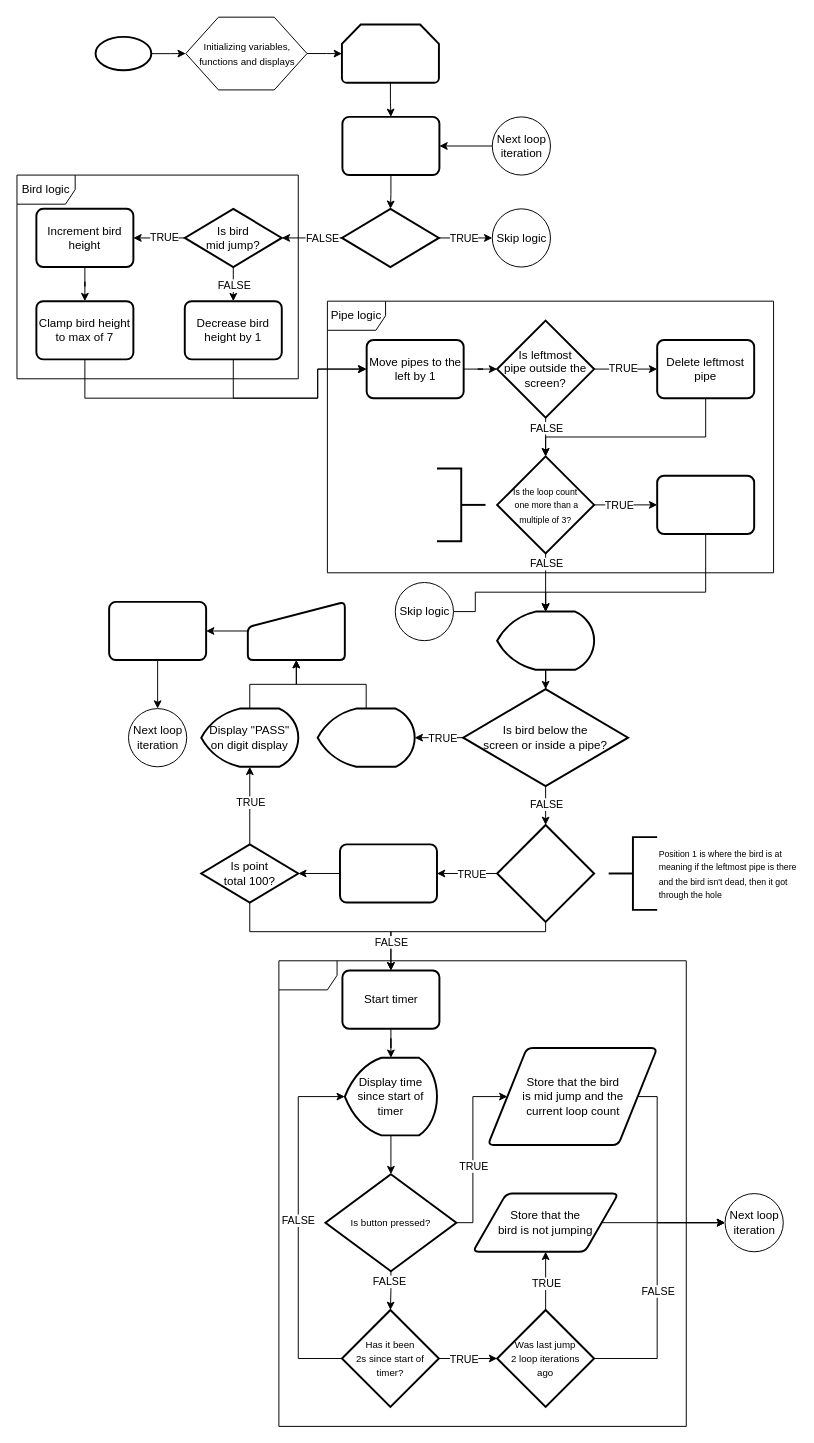
The diagram is 814 pixels wide and 1443 high, and some of its shapes have lost their labels. The box of each missing label's shape, as (x1, y1, x2, y2) in pixels:
Add a new pipe with a random height: (656, 474, 755, 534)
Await button press: (246, 600, 345, 661)
Display L on 3nd digit of digit display: (316, 707, 415, 767)
First loop?: (340, 207, 439, 268)
Increment loop count: (341, 115, 440, 176)
Increment point total: (339, 843, 437, 903)
Is leftmost pipe at position 1?: (496, 824, 595, 922)
Jump logic: (278, 960, 686, 1426)
loop_count%3 == 1: (436, 467, 486, 542)
Render image on matrix display: (496, 610, 595, 670)
Reset all variables to default values: (108, 600, 207, 661)
Start: (94, 35, 152, 71)
While True loop count starts at 0: (340, 23, 439, 83)
